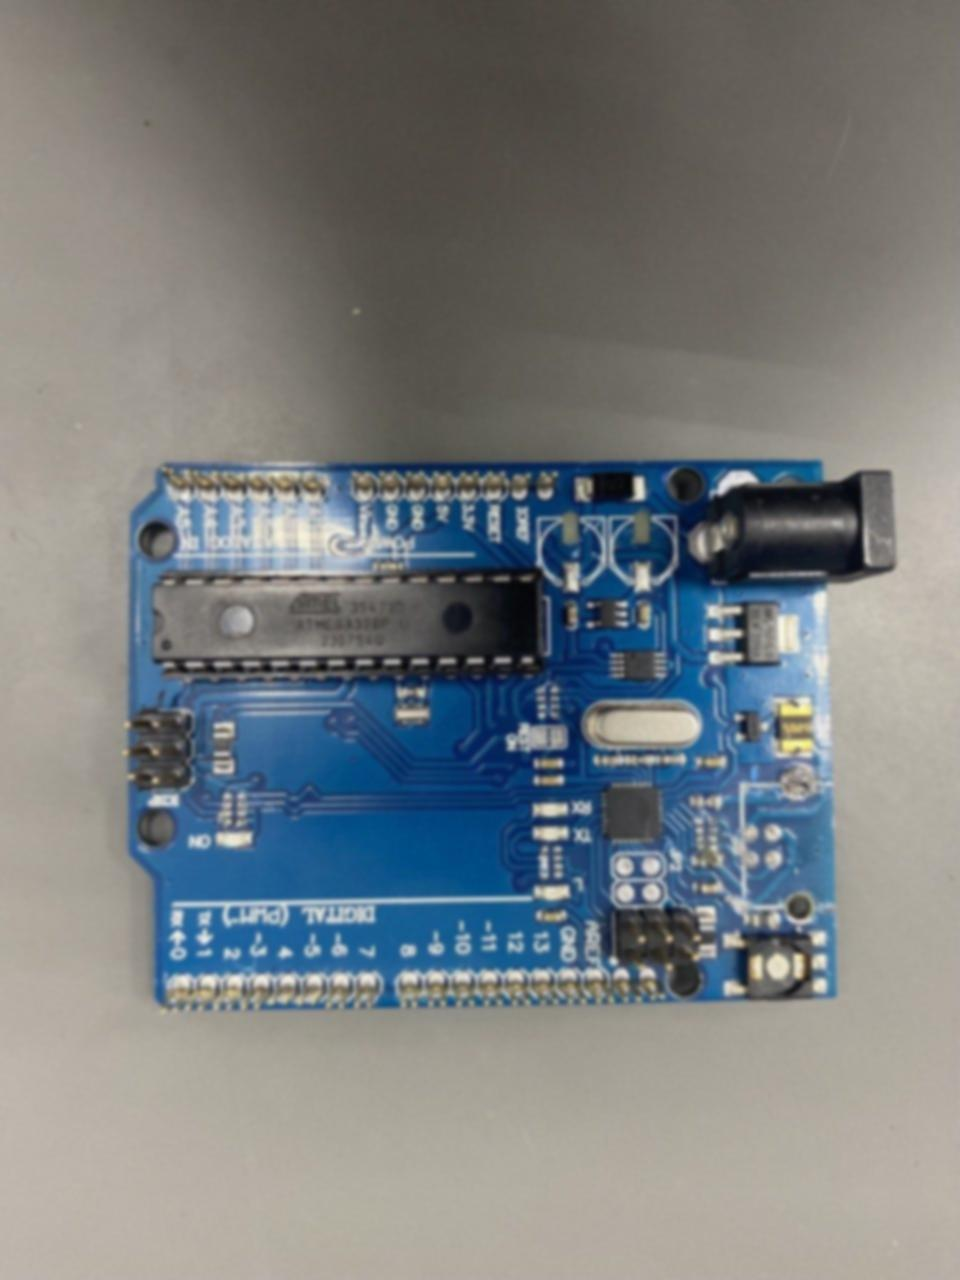ATmega328 chip: (151, 568, 545, 681)
Arduino board: (121, 461, 895, 1012)
